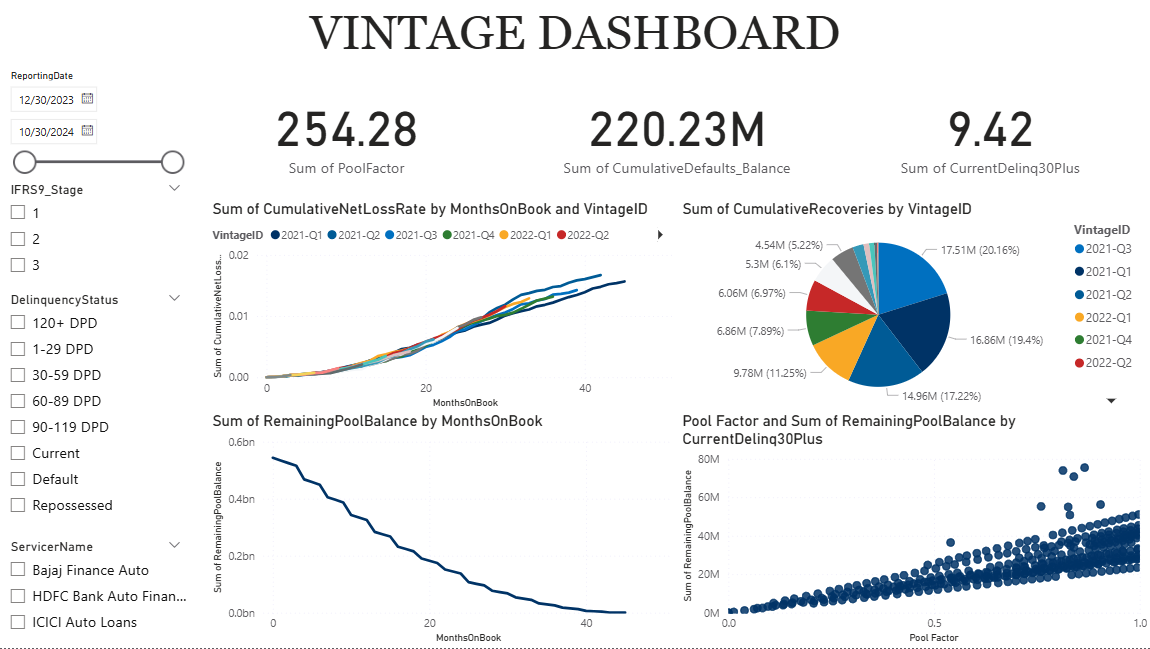

Layout of this report page (visuals, bound fields, positions):
{"tool":"powerbi","page":{"name":"VINTAGE DASHBOARD","canvas":[1280,720],"ordinal":6},"visuals":[{"type":"slicer","fields":{"Values":["dynamic_loss_monthly.ReportingDate"]},"box":[0,72,214,126],"z":0},{"type":"slicer","fields":{"Values":["auto_loan_securitisation_data.IFRS9_Stage"]},"box":[0,198,214,122],"z":1000},{"type":"slicer","fields":{"Values":["auto_loan_securitisation_data.DelinquencyStatus"]},"box":[0,320,214,274],"z":2000},{"type":"slicer","fields":{"Values":["auto_loan_securitisation_data.ServicerName"]},"box":[0,594,214,126],"z":3000},{"type":"textbox","box":[0,0,1280,72],"z":4000},{"type":"card","fields":{"Values":["Sum(static_pool_vintage_data.PoolFactor)"]},"box":[232,72,308,150],"z":5000},{"type":"card","fields":{"Values":["Sum(static_pool_vintage_data.CumulativeDefaults_Balance)"]},"box":[594,72,318,150],"z":6000},{"type":"card","fields":{"Values":["Sum(static_pool_vintage_data.CurrentDelinq30Plus)"]},"box":[954,72,294,150],"z":7000},{"type":"lineChart","fields":{"Category":["static_pool_vintage_data.MonthsOnBook"],"Series":["static_pool_vintage_data.VintageID"],"Y":["Sum(static_pool_vintage_data.CumulativeNetLossRate)"]},"box":[232,222,522,236],"z":8000},{"type":"lineChart","fields":{"Category":["static_pool_vintage_data.MonthsOnBook"],"Y":["Sum(static_pool_vintage_data.RemainingPoolBalance)"]},"box":[232,458,522,262],"z":9000},{"type":"pieChart","fields":{"Category":["static_pool_vintage_data.VintageID"],"Y":["Sum(static_pool_vintage_data.CumulativeRecoveries)"]},"box":[754,222,526,236],"z":10000},{"type":"scatterChart","fields":{"X":["static_pool_vintage_data.Pool Factor"],"Y":["Sum(static_pool_vintage_data.RemainingPoolBalance)"],"Category":["static_pool_vintage_data.CurrentDelinq30Plus"]},"box":[754,458,526,262],"z":11000}]}

Visuals, with their boxes in screenshot pixels (x1, y1, x2, y2), scaled from the page's 1280x720 canvas onto the 1150x649 screenshot:
slicer - dynamic_loss_monthly.ReportingDate: [x1=0, y1=65, x2=192, y2=178]
slicer - auto_loan_securitisation_data.IFRS9_Stage: [x1=0, y1=178, x2=192, y2=288]
slicer - auto_loan_securitisation_data.DelinquencyStatus: [x1=0, y1=288, x2=192, y2=535]
slicer - auto_loan_securitisation_data.ServicerName: [x1=0, y1=535, x2=192, y2=648]
textbox: [x1=0, y1=0, x2=1149, y2=65]
card - Sum(static_pool_vintage_data.PoolFactor): [x1=208, y1=65, x2=485, y2=200]
card - Sum(static_pool_vintage_data.CumulativeDefaults_Balance): [x1=534, y1=65, x2=819, y2=200]
card - Sum(static_pool_vintage_data.CurrentDelinq30Plus): [x1=857, y1=65, x2=1121, y2=200]
lineChart - static_pool_vintage_data.MonthsOnBook x static_pool_vintage_data.VintageID: [x1=208, y1=200, x2=677, y2=413]
lineChart - static_pool_vintage_data.MonthsOnBook x Sum(static_pool_vintage_data.RemainingPoolBalance): [x1=208, y1=413, x2=677, y2=648]
pieChart - static_pool_vintage_data.VintageID x Sum(static_pool_vintage_data.CumulativeRecoveries): [x1=677, y1=200, x2=1149, y2=413]
scatterChart - static_pool_vintage_data.Pool Factor x Sum(static_pool_vintage_data.RemainingPoolBalance): [x1=677, y1=413, x2=1149, y2=648]
